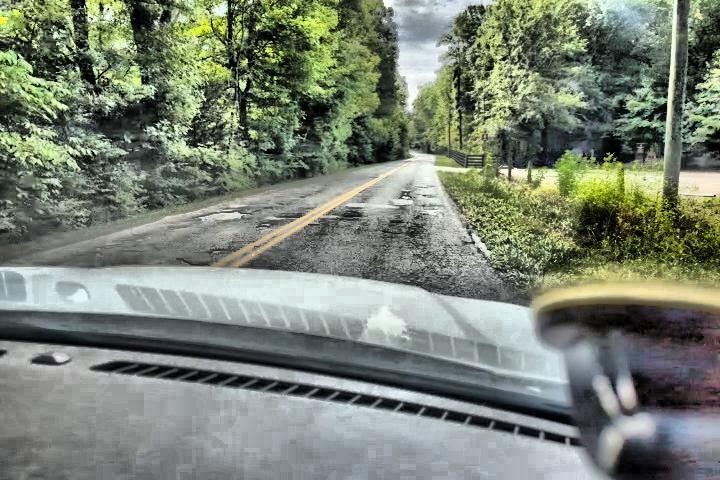pothole: (194, 204, 246, 227), (339, 199, 370, 229), (206, 241, 230, 263), (394, 189, 419, 203), (255, 217, 276, 233)
